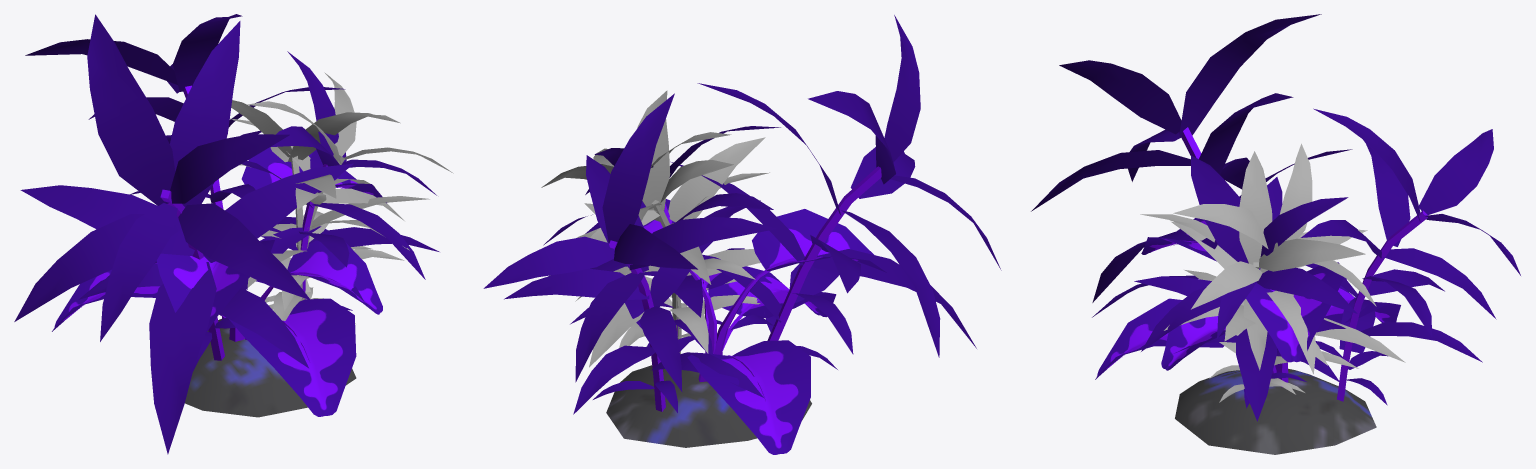
Rendered from Volcanic Plant.fbx.
3 views of the same model, side by side, from view 1: azimuth 30°, elevation 25°; view 2: azimuth 150°, elevation 25°; view 3: azimuth 270°, elevation 25° (orthographic). The views are drawn at different scales.
Visible parts, largest first — view 1: Large_Volcanic_Plant1, Large_Volcanic_Plant2, Leaf_14 (×2), Leaf_13 (×2), Leaf_08, Leaf_10, Leaf_12; view 2: Large_Volcanic_Plant1, Large_Volcanic_Plant2, Leaf_12, Leaf_13, Leaf_07, Leaf_14, Leaf_05, Leaf_09; view 3: Large_Volcanic_Plant1, Large_Volcanic_Plant2, Leaf_13 (×2), Leaf_14 (×2), Leaf_10 (×2), Leaf_15 (×2), Leaf_12 (×2), Leaf_07, Leaf_08.
Part boxes in pixels (box(x1,y1,x2,y2)): Large_Volcanic_Plant1: box(14, 14, 439, 454); Large_Volcanic_Plant2: box(52, 147, 386, 416); Leaf_14 (×2): box(231, 72, 356, 157); Leaf_13 (×2): box(247, 101, 400, 164); Leaf_08: box(308, 196, 429, 231); Leaf_10: box(322, 188, 404, 220); Leaf_12: box(296, 174, 336, 198); Large_Volcanic_Plant1: box(483, 15, 1001, 447); Large_Volcanic_Plant2: box(585, 199, 886, 454); Leaf_12: box(668, 137, 765, 222); Leaf_13: box(637, 90, 670, 211); Leaf_07: box(589, 280, 651, 367); Leaf_14: box(660, 160, 733, 203); Leaf_05: box(670, 307, 708, 353); Leaf_09: box(687, 249, 760, 277); Large_Volcanic_Plant1: box(1031, 14, 1520, 454); Large_Volcanic_Plant2: box(1095, 218, 1400, 387); Leaf_13 (×2): box(1173, 151, 1272, 268); Leaf_14 (×2): box(1259, 143, 1365, 271); Leaf_10 (×2): box(1243, 290, 1316, 374); Leaf_15 (×2): box(1191, 260, 1376, 309); Leaf_12 (×2): box(1140, 214, 1237, 268); Leaf_07: box(1315, 318, 1405, 362); Leaf_08: box(1224, 305, 1255, 341).
Size of the model in its own units: 23.94 by 20.32 by 26.2.
2 materials, 1 textured.
